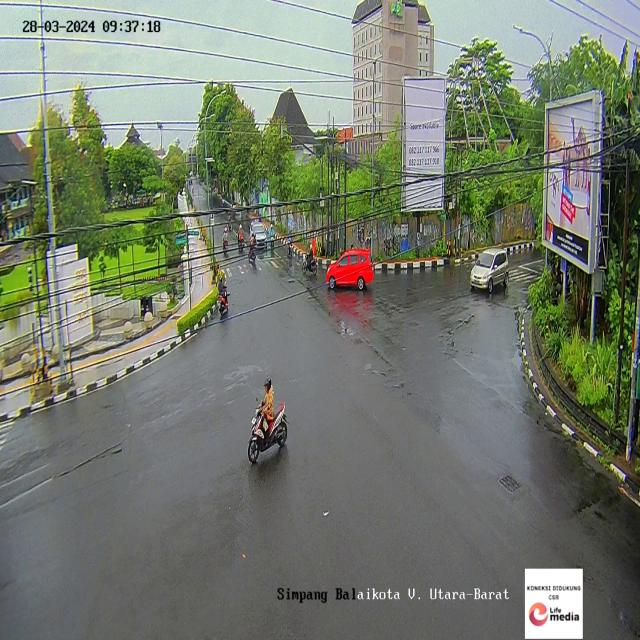car: (327, 251, 374, 294), (470, 247, 510, 291), (251, 222, 268, 250)
motorcycle: (247, 374, 286, 471), (217, 272, 230, 325), (304, 235, 318, 271), (247, 231, 258, 265), (222, 225, 231, 259), (284, 232, 292, 261), (270, 221, 278, 249), (237, 221, 243, 255)
